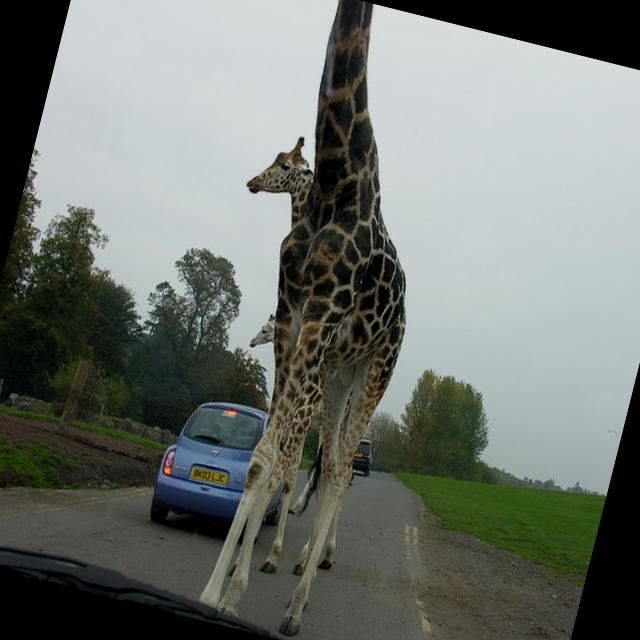Vehicle: (144, 388, 271, 548), (349, 438, 375, 471)
